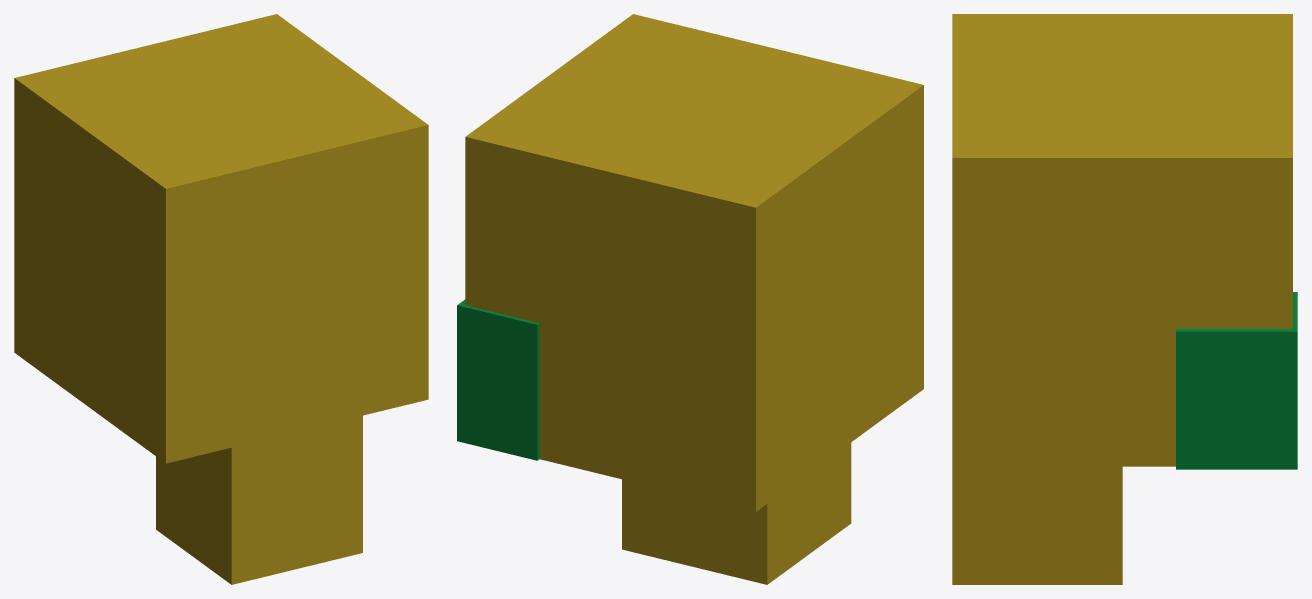
File: cameraMesh.DAE
3 renders of one model, left to right at view 1: azimuth 30°, elevation 25°; view 2: azimuth 150°, elevation 25°; view 3: azimuth 270°, elevation 25°, orthographic. The views are drawn at different scales.
Parts seen in each view (by area): view 1: Box01; view 2: Box01, Box02; view 3: Box01, Box02.
Boxes of the visible parts, x1,y1,x2,y2 form: Box01: [14, 14, 428, 584]; Box01: [465, 14, 923, 584]; Box02: [457, 299, 539, 460]; Box01: [952, 14, 1292, 584]; Box02: [1176, 292, 1297, 469].
Bounding box in the file's own units: 0.5104 × 0.5065 × 0.75.
